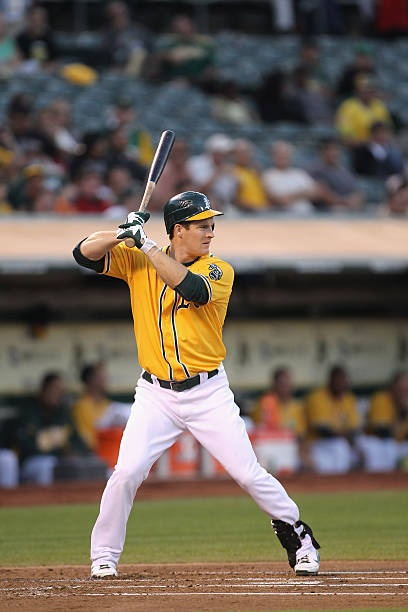bita: (124, 127, 175, 243)
